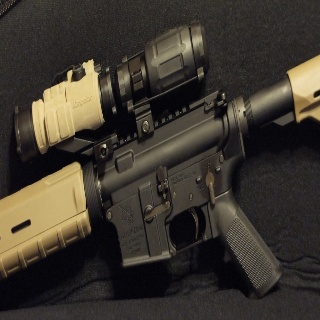rifle: (1, 22, 320, 301)
